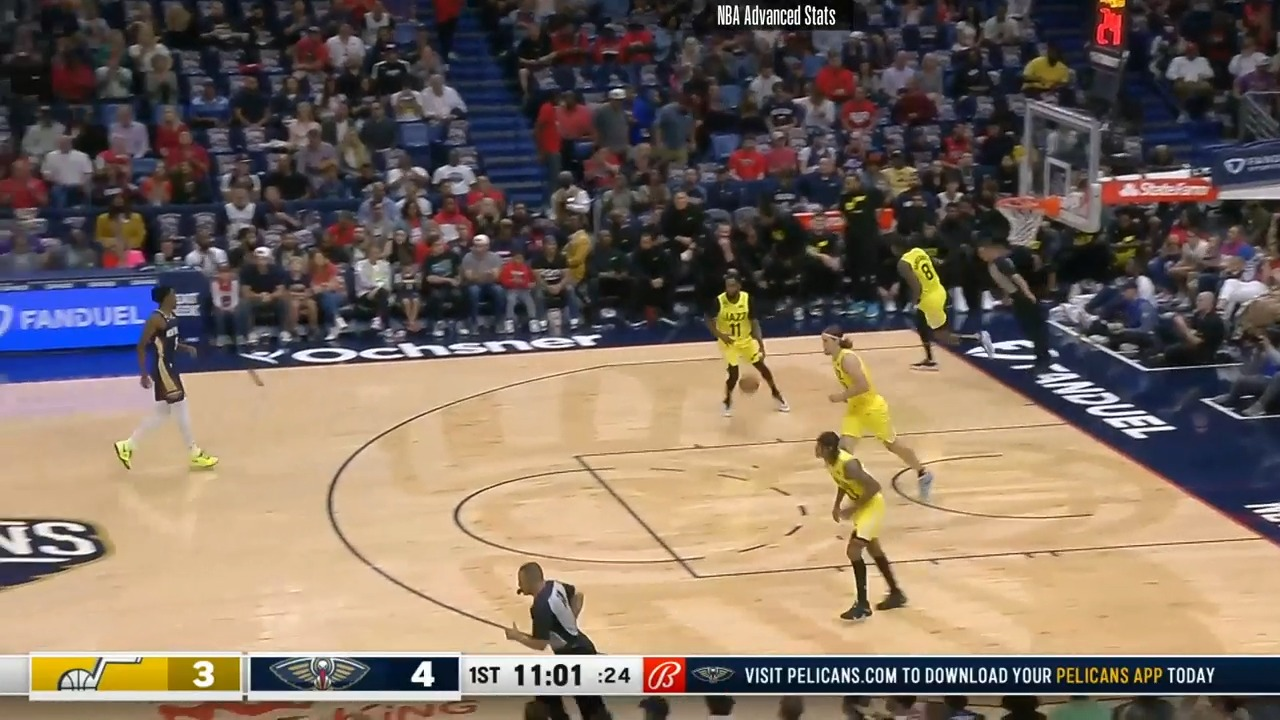net: (993, 187, 1068, 250)
player: (118, 282, 222, 476), (817, 327, 934, 499), (809, 433, 910, 628), (884, 230, 972, 375), (707, 275, 789, 420)
referee: (978, 239, 1052, 379), (508, 567, 598, 659)
